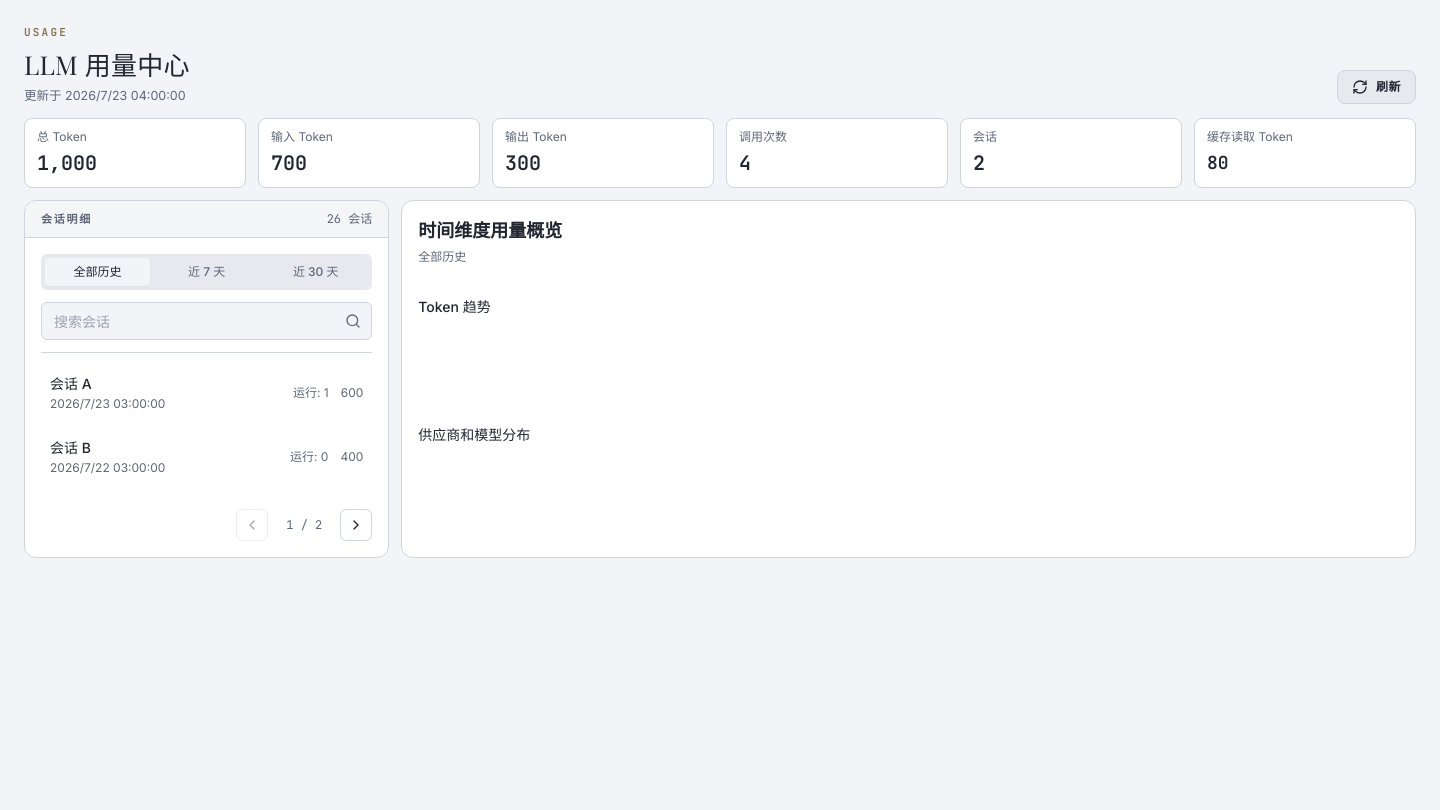
Test: Usage › keeps the applied range selected when a replacement range fails
Expected: the text "1,000" is shown, [37,150,97,176]
What coordinates should you click on to do the following:
click the button "近 7 天"
I would click on:
 (207, 272)
Its box is [154,258,259,286].
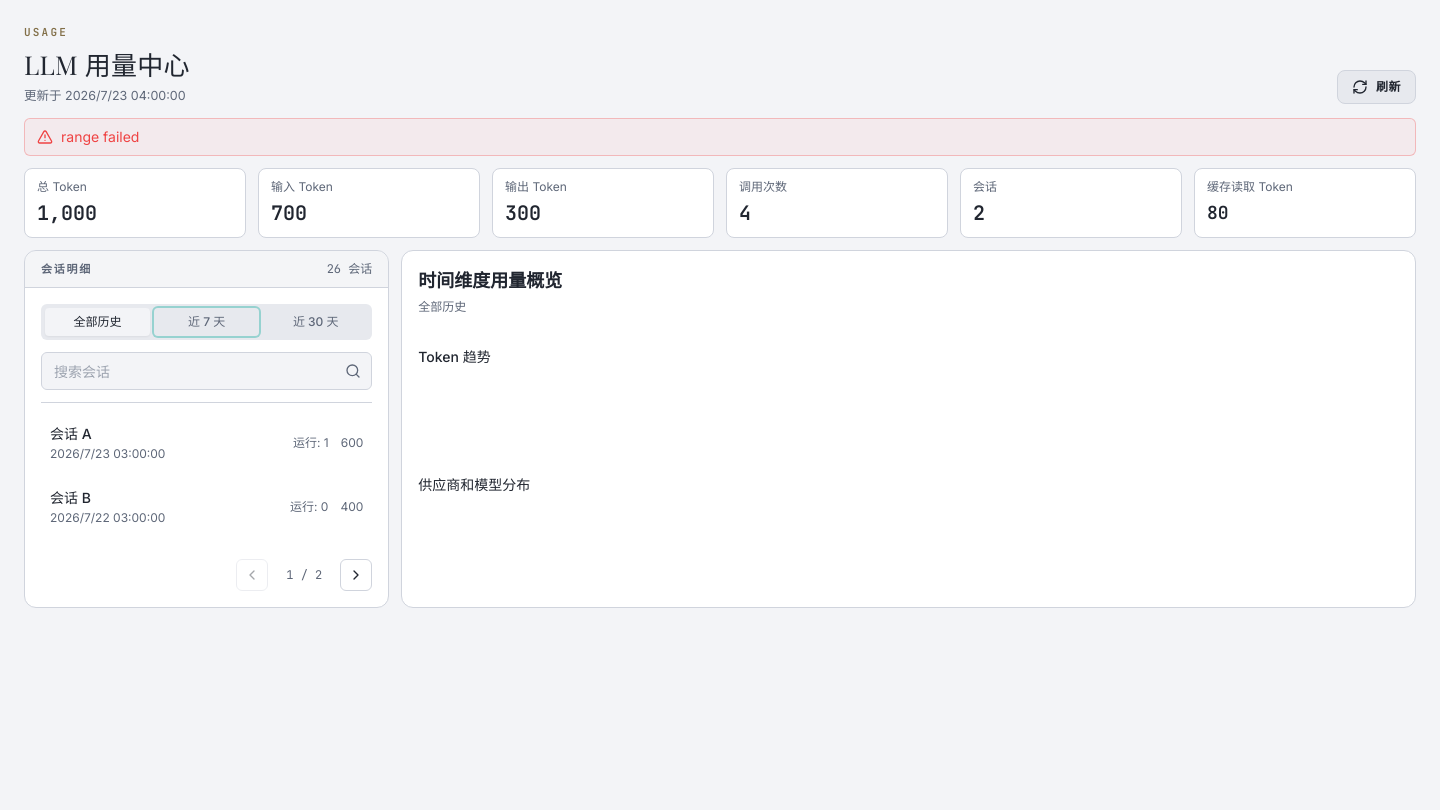
Expected: the text "1,000" is shown, [37,200,97,226]
Result: the text "range failed" is shown at [61,128,139,145]
